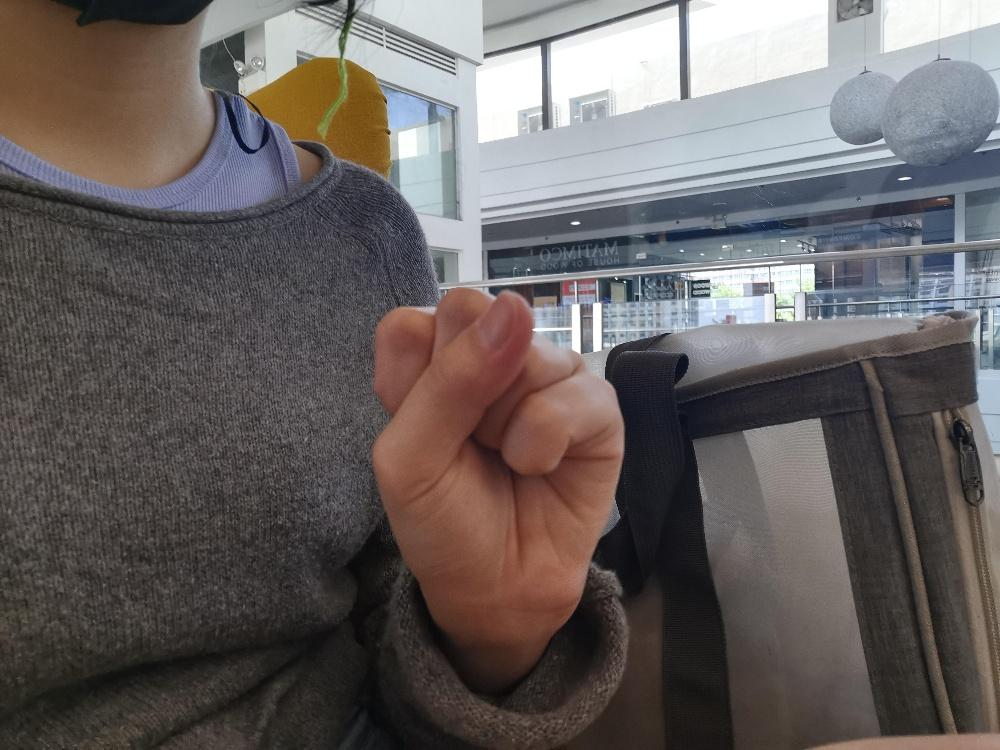s: (367, 283, 625, 616)
